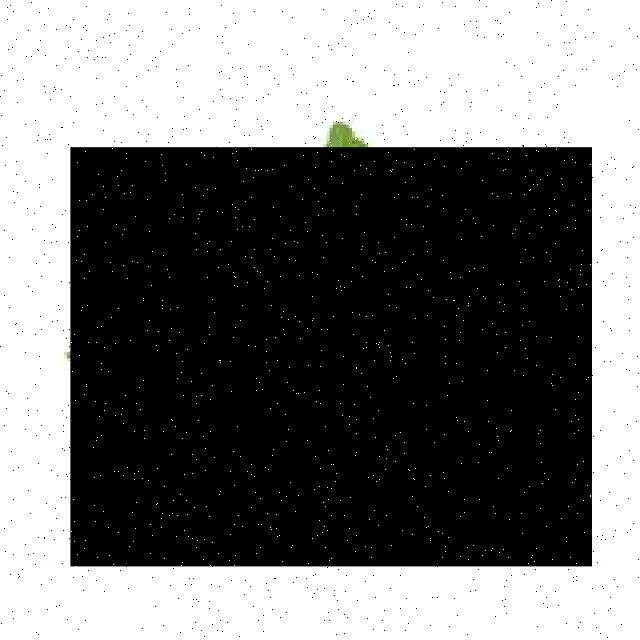Bethu_ko_Saag: (72, 148, 592, 567)
